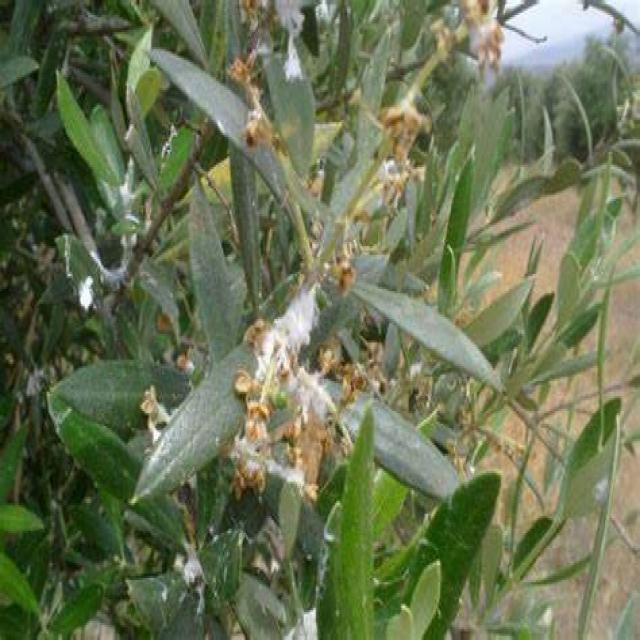Psyllid: (231, 282, 331, 494), (66, 158, 139, 334), (240, 0, 326, 79), (139, 385, 161, 443)
